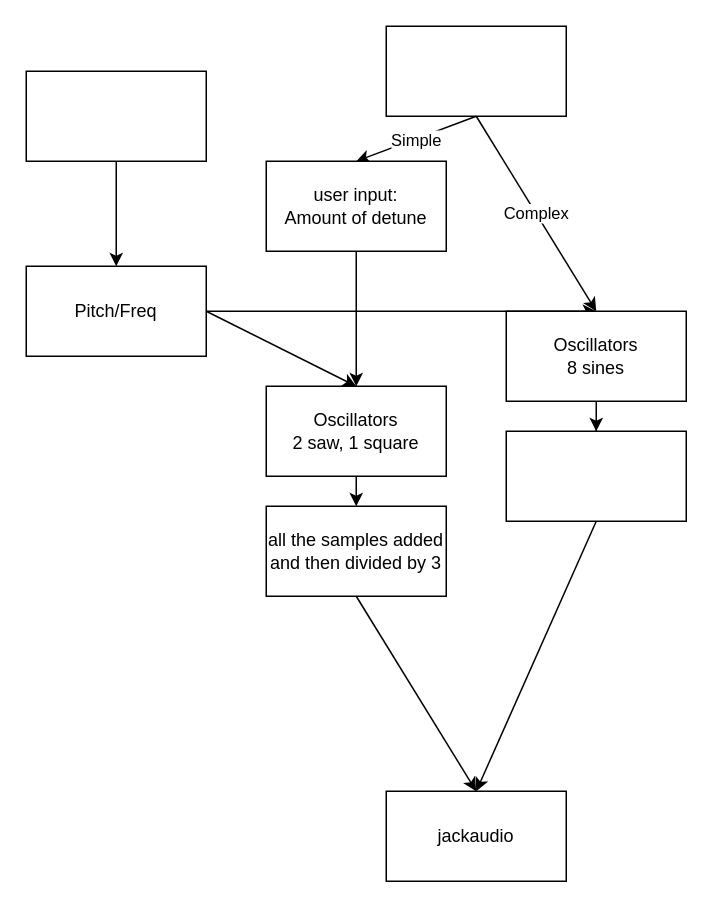
Some shapes in this 713 by 908 pixel diagram are drawn without their labels. The shapes that lost their labels are listed below. From the top down, each one's centre as x and y in pixels, then its label:
At point 475,70: "user input: Which synth?".
At point 115,115: "randomly generated by melodygen".
At point 595,475: "all the samples added and then divided by 100".
